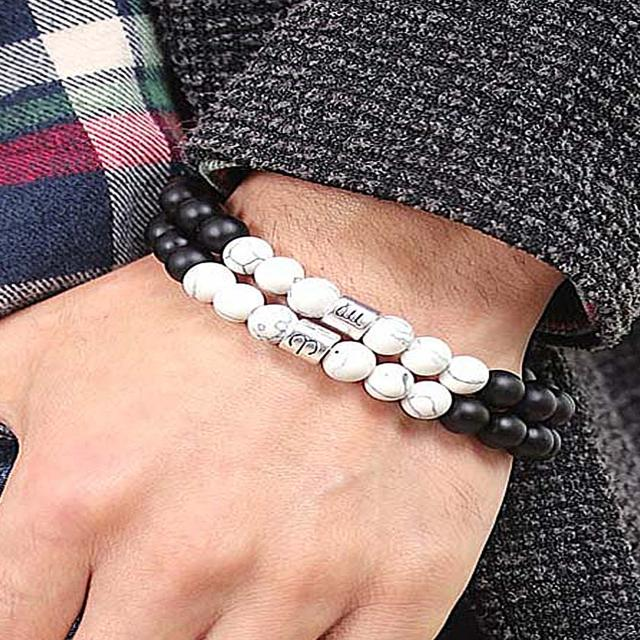bracelet: (56, 126, 638, 506)
